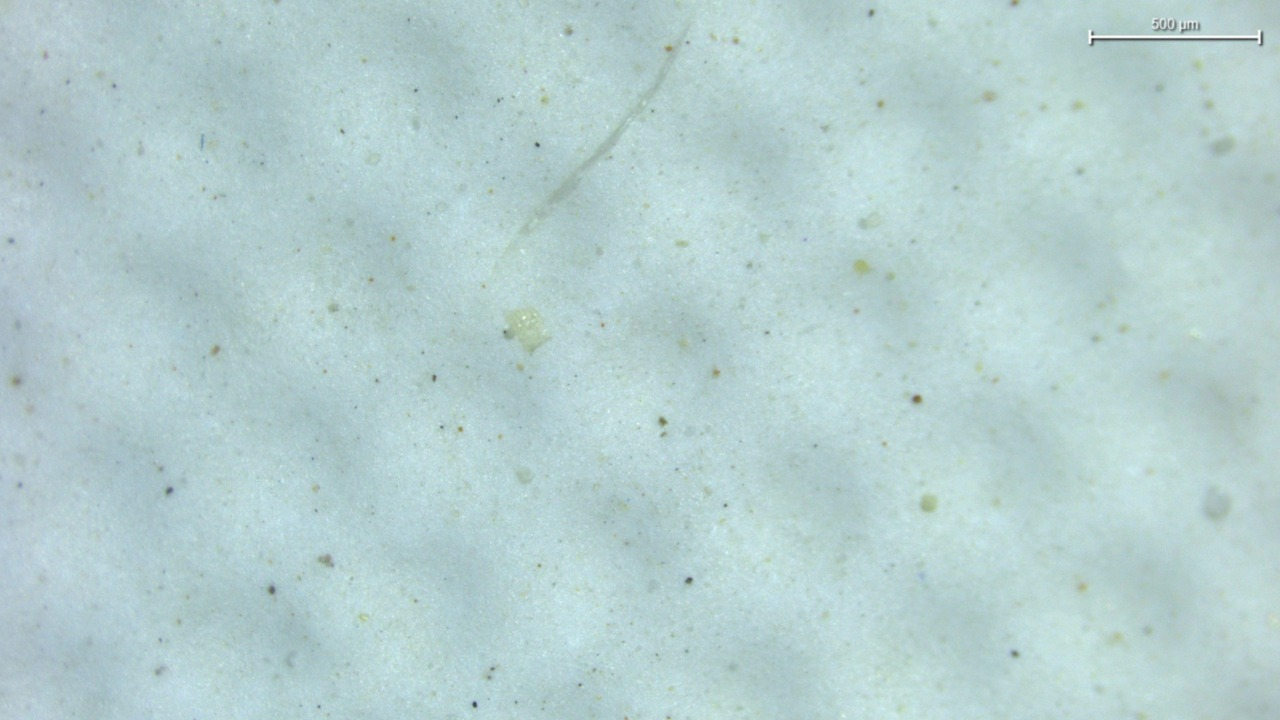microplastic_fragment: (504, 308, 550, 352)
